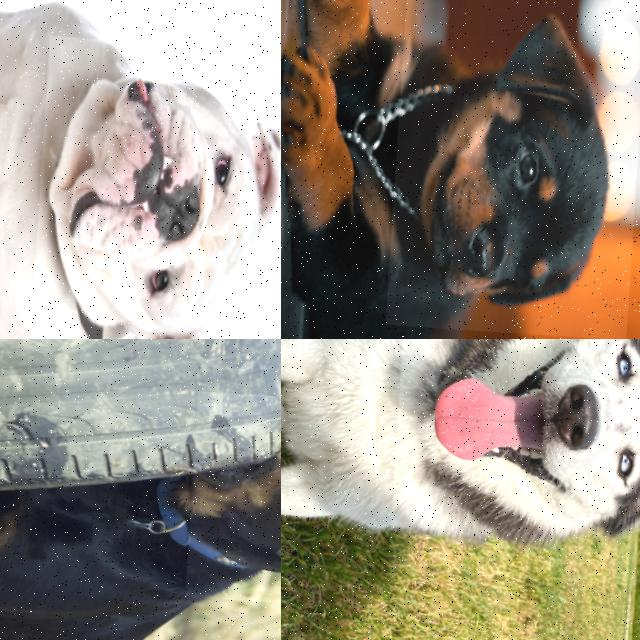bulldog: (28, 31, 281, 339)
husky: (390, 339, 640, 587)
rottweiler: (386, 0, 640, 336), (187, 387, 281, 608)
